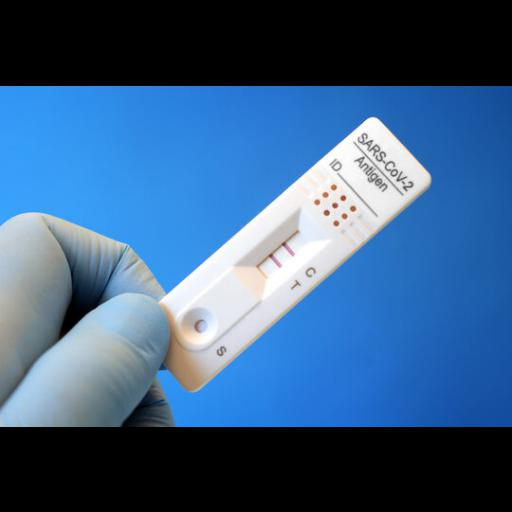Pos: (134, 113, 436, 394)
